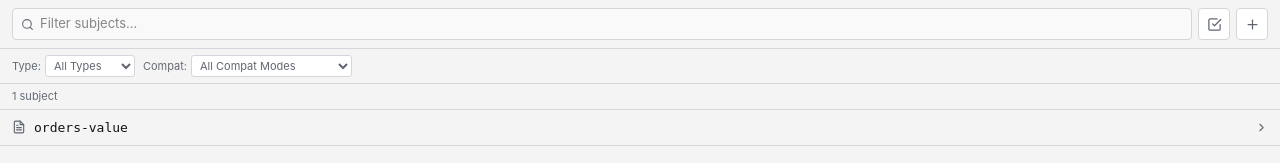
Test case: [@schema-list] search/filter › shows a clear button when search query is non-empty
In the field named "filter schema subjects": (612,24) x1=40 y1=14 x2=1183 y2=34, type "ord"
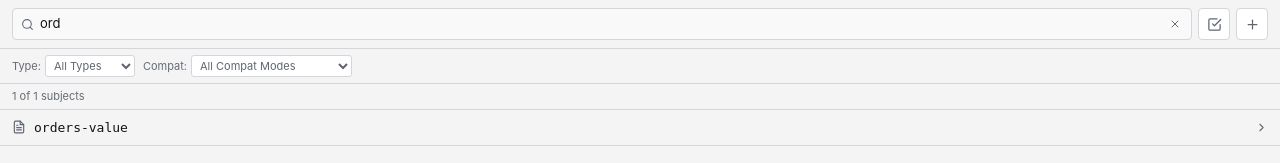
Result: the button named "clear filter" is shown at x1=1167 y1=16 x2=1183 y2=32
